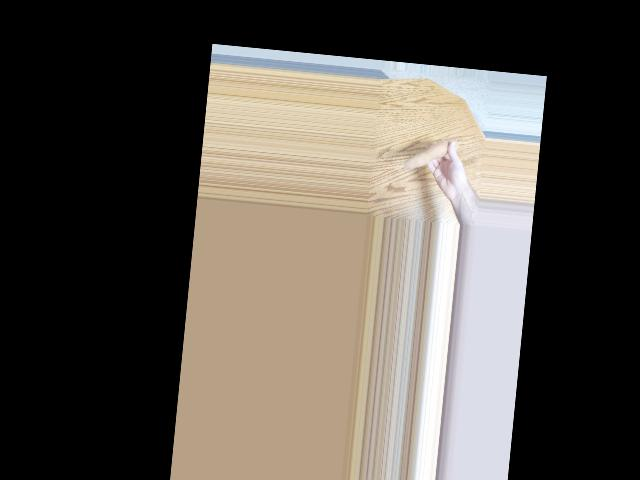sweet_potato: (403, 133, 460, 174)
